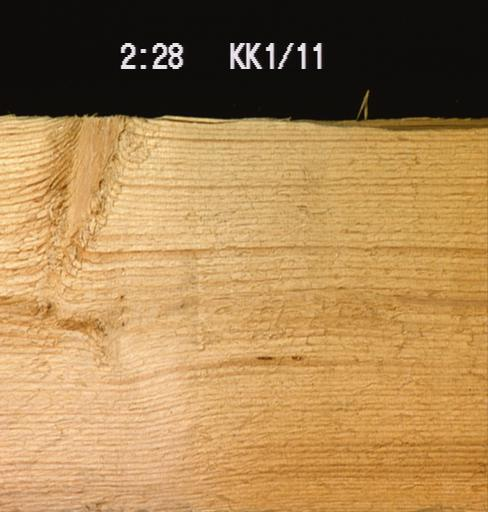split: (149, 115, 242, 128)
wave: (295, 115, 486, 135)
